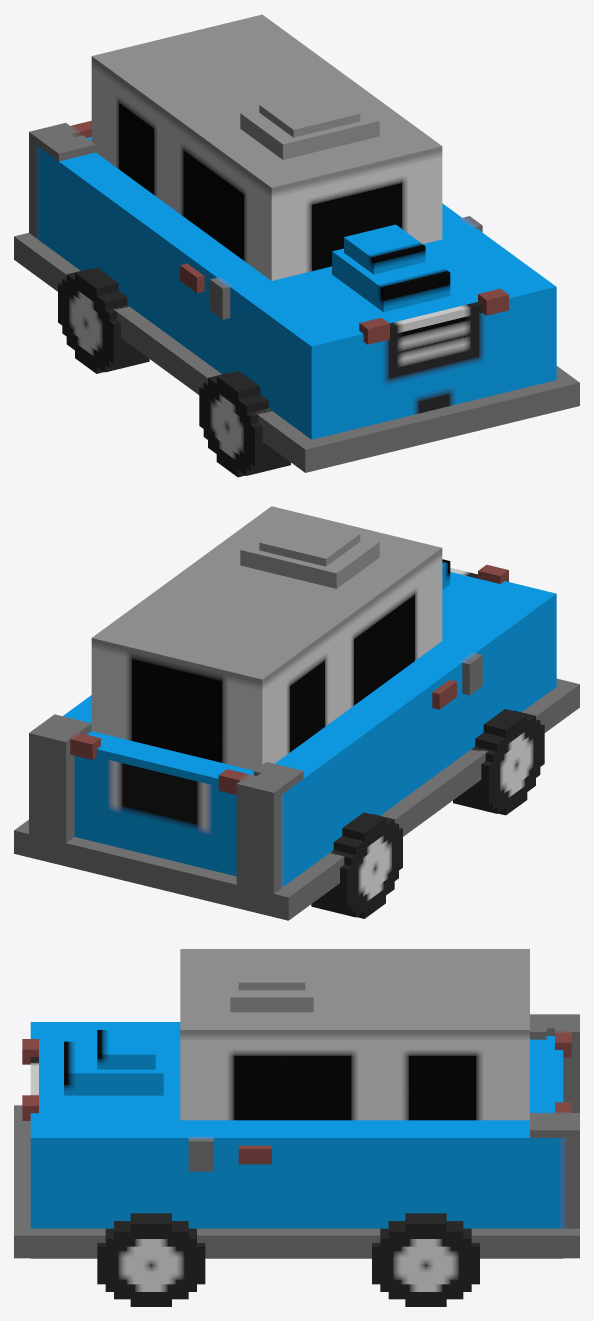
The model's file is car_modern_2.fbx.
The picture shows the model from 3 angles, top to bottom: view 1: azimuth 30°, elevation 25°; view 2: azimuth 150°, elevation 25°; view 3: azimuth 270°, elevation 25°; orthographic projection. The views are drawn at different scales.
Parts seen in each view (by area): view 1: body, back_right_wheel, back_left_wheel; view 2: body, back_right_wheel, back_left_wheel; view 3: body, front_right_wheel, front_left_wheel.
Boxes of the visible parts, x1,y1,x2,y2 form: body: (14,14,579,472); back_right_wheel: (199,371,290,477); back_left_wheel: (58,267,149,373); body: (14,506,579,920); back_right_wheel: (453,709,544,815); back_left_wheel: (311,812,402,918); body: (14,949,579,1258); front_right_wheel: (97,1213,205,1306); front_left_wheel: (372,1213,479,1306).
Size of the model in its own units: 39 by 36 by 68.
Materials: 1 (1 with a texture image).
